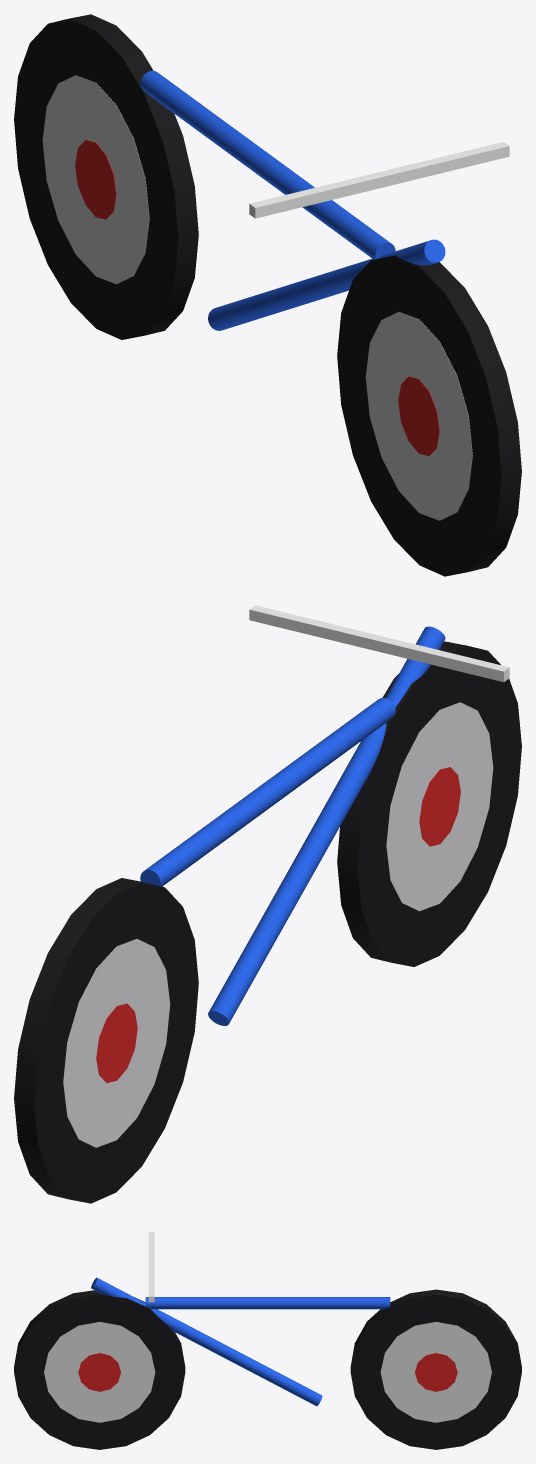
The model's file is bicycle.glb.
3 renders of one model, top to bottom at view 1: azimuth 30°, elevation 25°; view 2: azimuth 150°, elevation 25°; view 3: azimuth 270°, elevation 25°, orthographic. The views are drawn at different scales.
Size of the model in its own units: 0.3012 by 0.3976 by 1.
